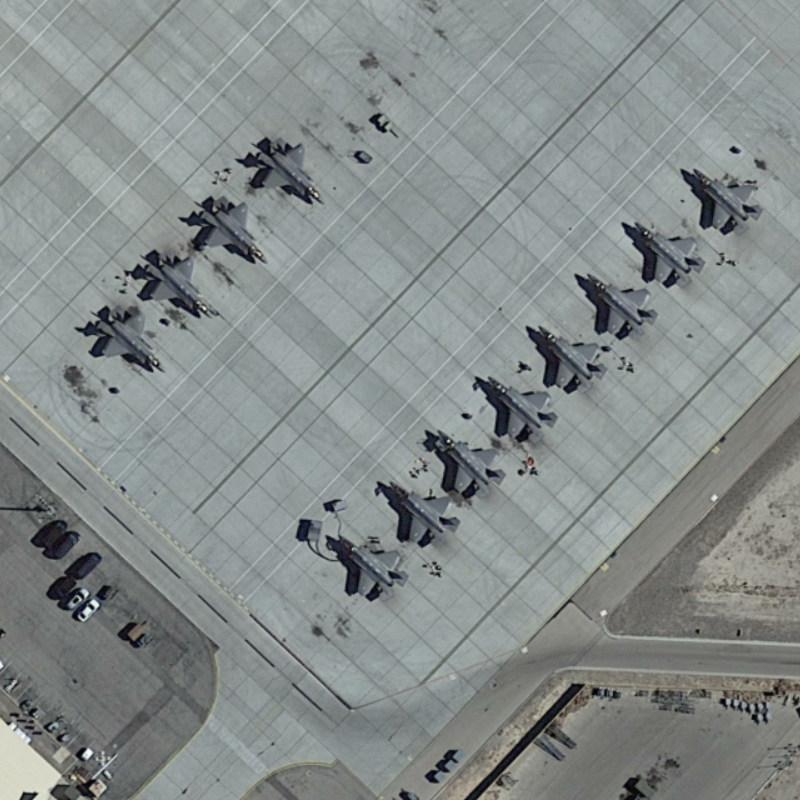A15: (182, 188, 278, 275), (74, 297, 168, 379), (130, 245, 221, 327), (243, 128, 332, 211), (529, 316, 616, 400), (326, 525, 415, 607), (623, 211, 710, 294), (382, 472, 469, 555), (431, 420, 511, 508), (576, 264, 665, 343), (683, 155, 769, 236), (479, 369, 561, 449)
